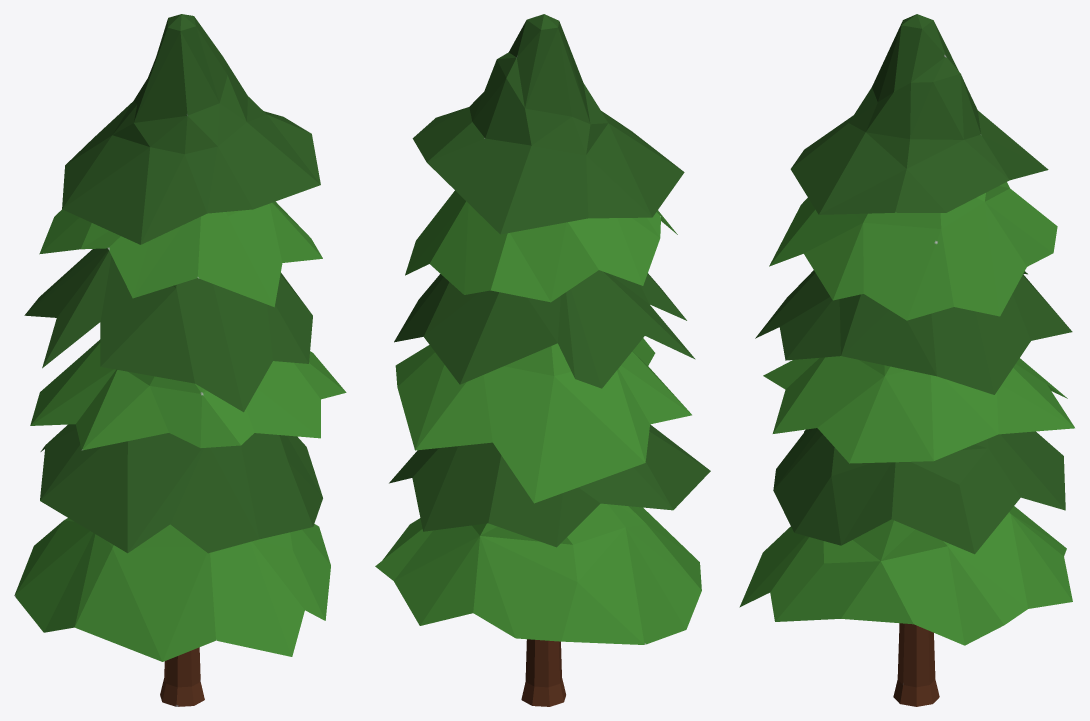
The model's file is PineTree_2.fbx.
3 renders of one model, left to right at view 1: azimuth 30°, elevation 25°; view 2: azimuth 150°, elevation 25°; view 3: azimuth 270°, elevation 25°, orthographic.
Visible parts, largest first — view 1: PineTree.004; view 2: PineTree.004; view 3: PineTree.004.
Part boxes in pixels (x1,y1,x2,y2): PineTree.004: [14, 14, 346, 706]; PineTree.004: [375, 14, 710, 706]; PineTree.004: [739, 14, 1074, 706].
Bounding box in the file's own units: 1693 × 3872 × 1727.
